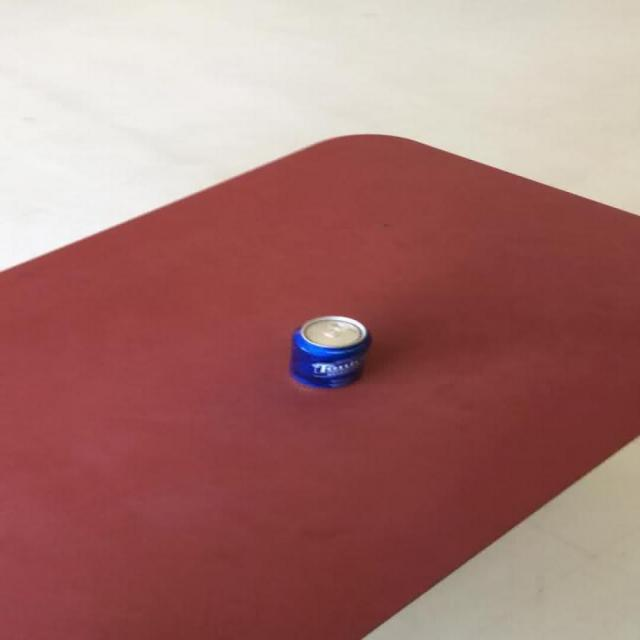Tonic: (287, 314, 371, 389)
